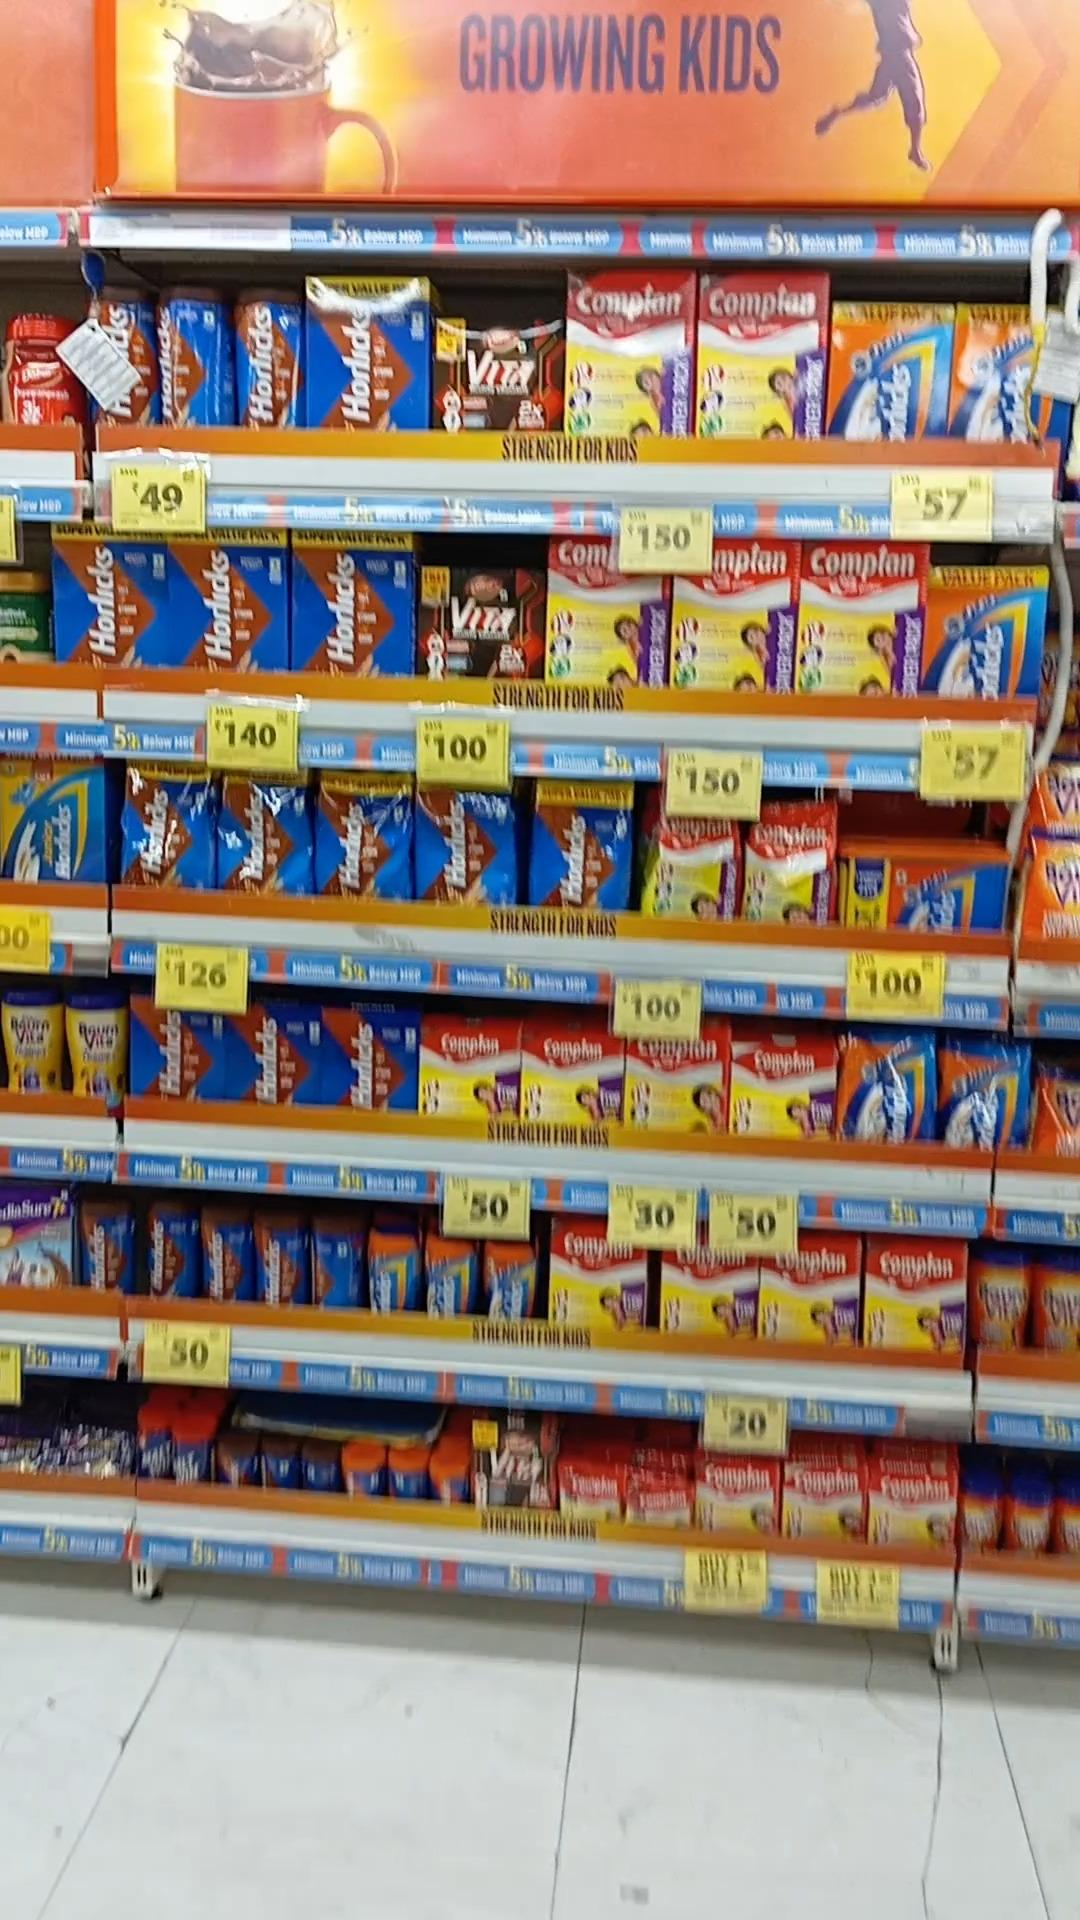BOURN_VITA_200_G_JAR: (963, 1480, 1002, 1556), (1011, 1481, 1050, 1557), (1054, 1474, 1080, 1555)
BOURN_VITA_500_G_JAR: (971, 1249, 1031, 1349), (1036, 1251, 1080, 1353)
BOURN_VITA_CHAMPS_500_G_JAR: (1, 989, 61, 1093), (66, 997, 124, 1102)
COMPLAN_CHOCOLATE_1_KG_PACK: (702, 269, 820, 444), (567, 270, 688, 434), (799, 543, 922, 699), (545, 533, 666, 688), (676, 538, 790, 694)
COMPLAN_CHOCOLATE_500_GMS_PACK: (866, 1238, 961, 1353), (551, 1218, 646, 1328), (419, 1026, 517, 1125), (520, 1030, 620, 1126)
COMPLAN_CREAMY_CLASSIC_500_G_PACK: (729, 1043, 832, 1141)
COMPLAN_RC_POUCH_700_GMS_12: (748, 807, 837, 926), (658, 818, 741, 924)
HORLICK_CHOCOLATE_1_KG_JAR: (88, 280, 158, 429), (232, 290, 301, 433), (157, 280, 219, 430)
HORLICK_CHOCOLATE_1_KG_PACK: (309, 276, 423, 433), (51, 509, 161, 670), (293, 524, 407, 676), (167, 526, 286, 671)
HORLICK_CHOCOLATE_500_G_JAR: (78, 1197, 137, 1298), (198, 1203, 251, 1303), (253, 1211, 306, 1308), (142, 1199, 193, 1299)
HORLICK_CHOCOLATE_500_G_PACK: (129, 998, 227, 1109), (322, 1009, 417, 1113), (229, 1004, 318, 1109)
HORLICK_CHOCOLATE_750_G_POUCH: (535, 781, 632, 913), (417, 781, 514, 909), (220, 769, 311, 902), (120, 762, 211, 891), (322, 770, 407, 902)
HORLICK_CLASSIC_MALT_500_G_JAR: (369, 1218, 422, 1317), (484, 1234, 535, 1323), (422, 1229, 471, 1319)
HORLICK_CLASSIC_MALT_500_G_PACK: (955, 305, 1069, 450), (833, 301, 948, 439), (928, 566, 1040, 699)
HORLICK_CLASSIC_MALT_750_G_POUCH: (845, 1025, 935, 1142), (939, 1039, 1030, 1154)
PEDIASURE_7_PLUS_CHOCOLATE_400_G_PACK: (0, 1182, 70, 1288)
